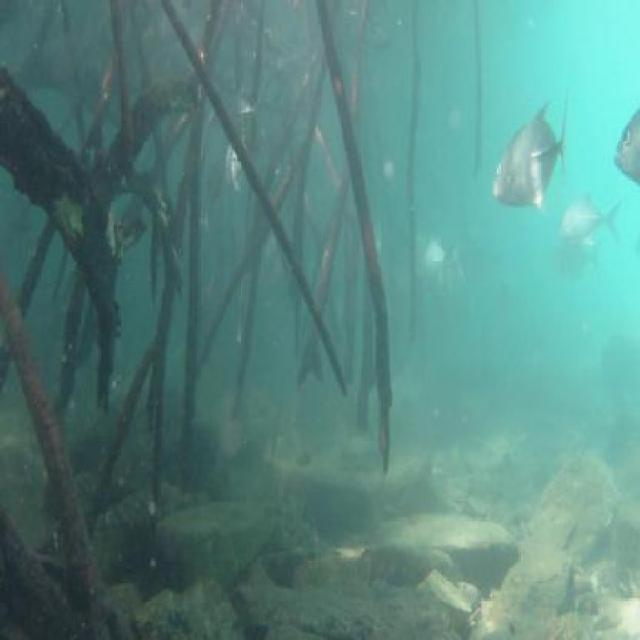Caranx_sexfasciatus_juvenile: (488, 94, 568, 209), (604, 102, 640, 211), (559, 192, 621, 246), (441, 242, 477, 312), (417, 232, 451, 297), (218, 132, 251, 197), (544, 247, 604, 282), (218, 88, 253, 140)
